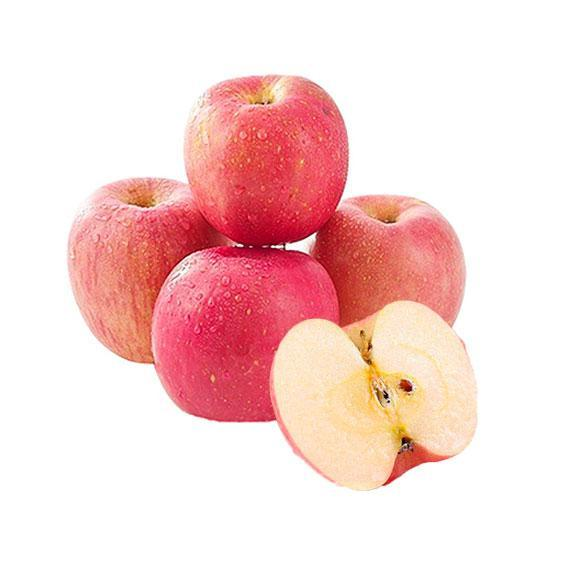apple: (269, 301, 484, 492), (153, 250, 338, 423), (61, 174, 220, 365), (182, 74, 349, 248), (316, 190, 466, 325)
